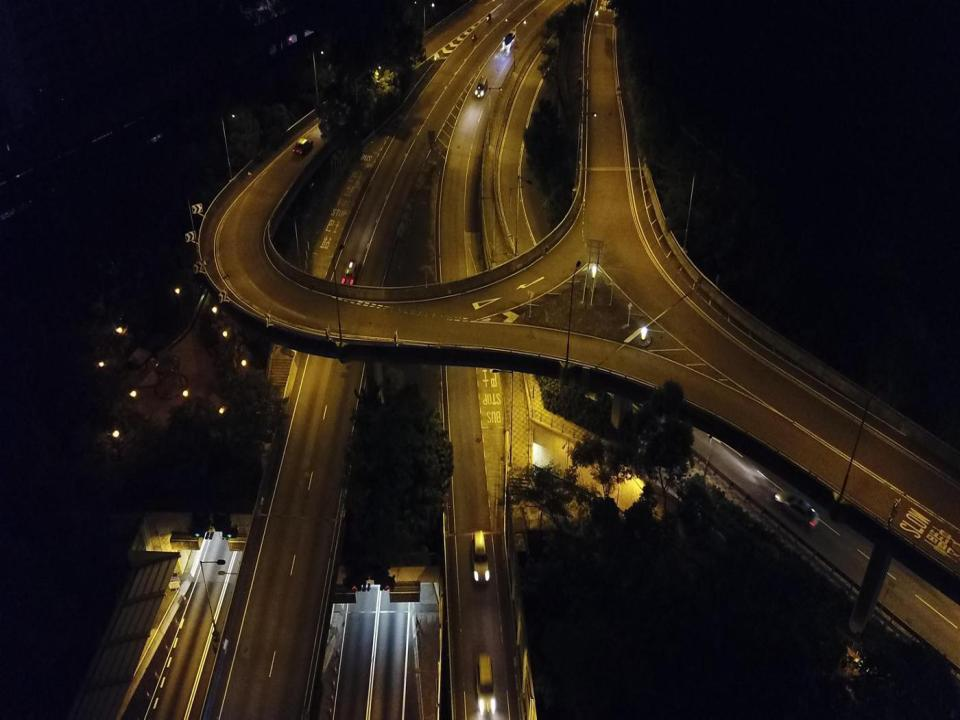car: (774, 491, 820, 530), (476, 652, 496, 715), (470, 531, 490, 583), (340, 258, 359, 288), (293, 136, 314, 155), (502, 28, 517, 50)
van: (474, 74, 488, 99)
